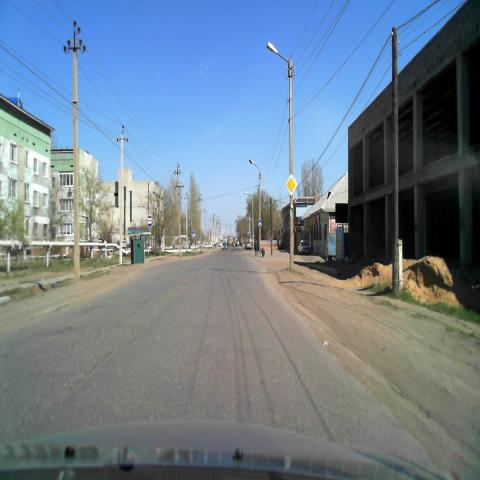2_1: (284, 174, 298, 197)
5_16: (147, 216, 152, 227)
5_19_1: (192, 230, 196, 238), (257, 220, 262, 226)
